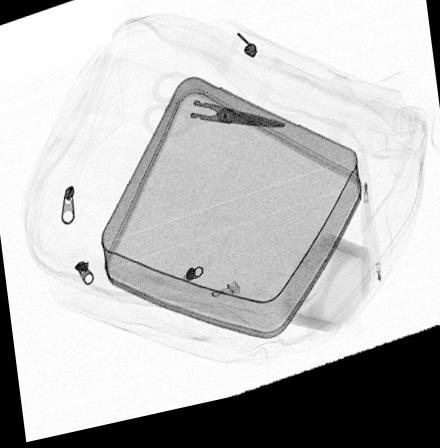Scissors: (142, 76, 287, 146)
